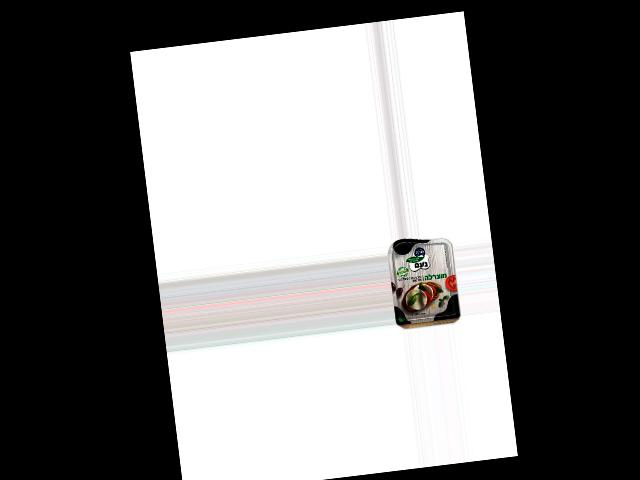cheese: (386, 234, 461, 326)
